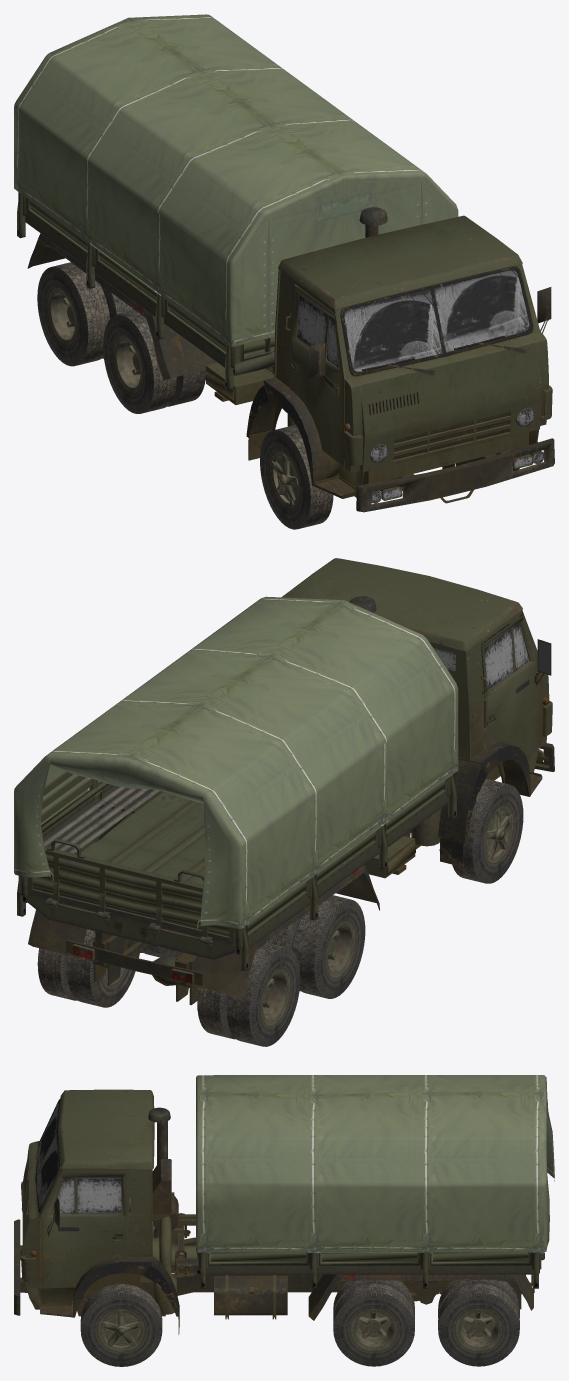
3 views of the same model, one above another, from view 1: azimuth 30°, elevation 25°; view 2: azimuth 150°, elevation 25°; view 3: azimuth 270°, elevation 25° (orthographic). The views are drawn at different scales.
Visible parts, largest first — view 1: Kung_1, Body_0, Chassi_2; view 2: Kung_1, Chassi_2, Body_0; view 3: Kung_1, Body_0, Chassi_2.
Part boxes in pixels (x1,y1,x2,y2): Kung_1: (14,14,458,346); Body_0: (27,207,554,512); Chassi_2: (17,192,543,529); Kung_1: (14,596,458,928); Chassi_2: (17,616,528,1046); Body_0: (28,558,554,1005); Kung_1: (196,1075,554,1252); Body_0: (14,1089,534,1334); Chassi_2: (21,1102,544,1366).
Size of the model in its own units: 2.93 by 3.35 by 7.08.
5 materials, 5 textured.
